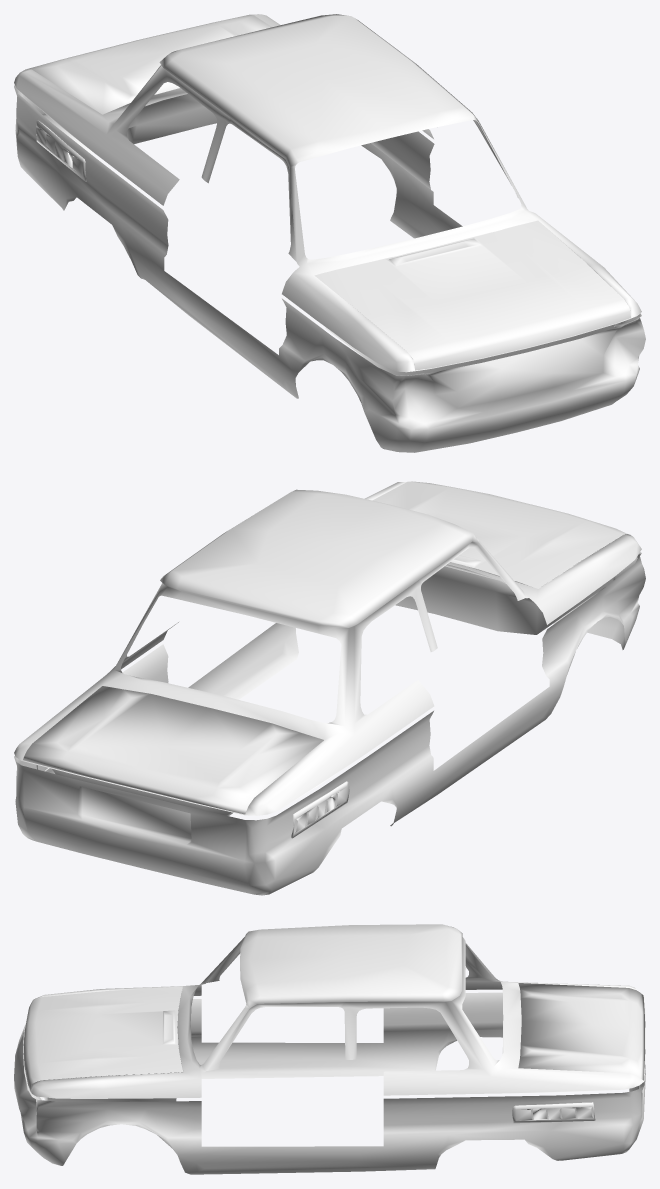
3 views of the same model, one above another, from view 1: azimuth 30°, elevation 25°; view 2: azimuth 150°, elevation 25°; view 3: azimuth 270°, elevation 25° (orthographic). The views are drawn at different scales.
Bounding box in the file's own units: 1.43 × 1.1 × 3.65.
Materials: 1 (1 with a texture image).
